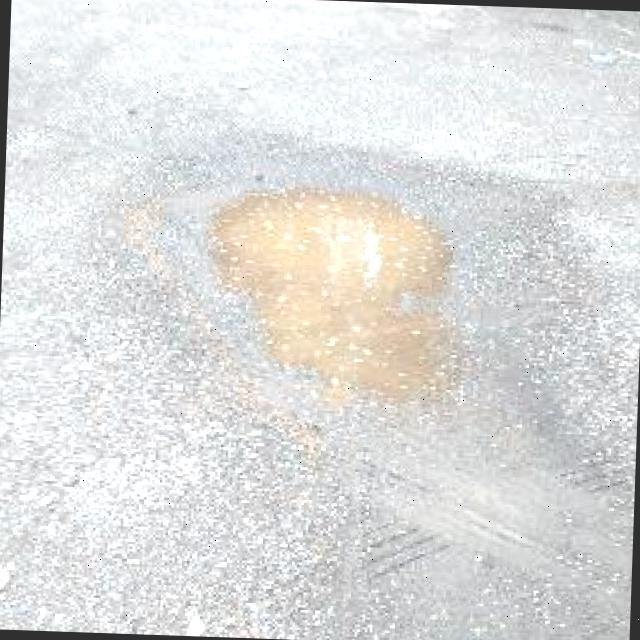stagnation: (214, 172, 486, 422)
